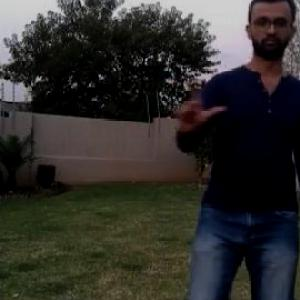land_hand: (171, 74, 228, 134)
